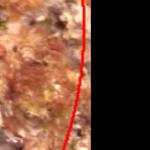alive: (1, 2, 86, 148)
